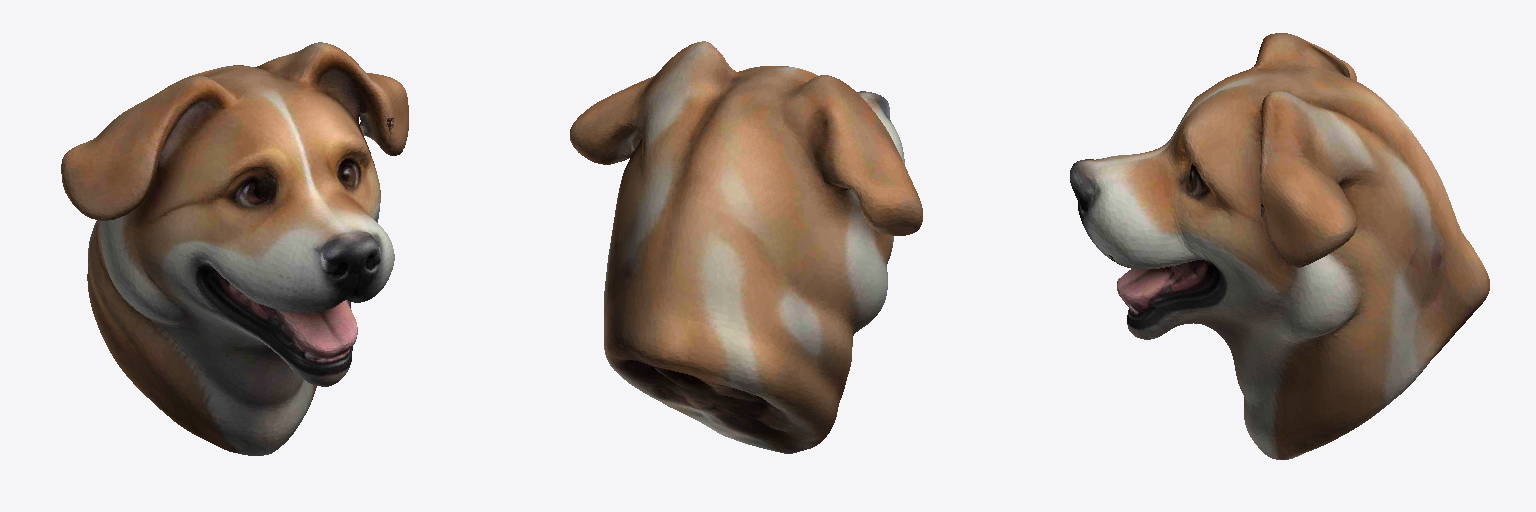
The picture shows the model from 3 angles: view 1: azimuth 30°, elevation 25°; view 2: azimuth 150°, elevation 25°; view 3: azimuth 270°, elevation 25°; orthographic projection.
Visible parts, largest first — view 1: model.001; view 2: model.001; view 3: model.001.
Boxes of the visible parts, x1=… form: model.001: x1=61, y1=42, x2=408, y2=455; model.001: x1=570, y1=41, x2=922, y2=453; model.001: x1=1070, y1=33, x2=1489, y2=459.
Bounding box in the file's own units: 1.3 × 1.42 × 1.38.
1 materials, 1 textured.